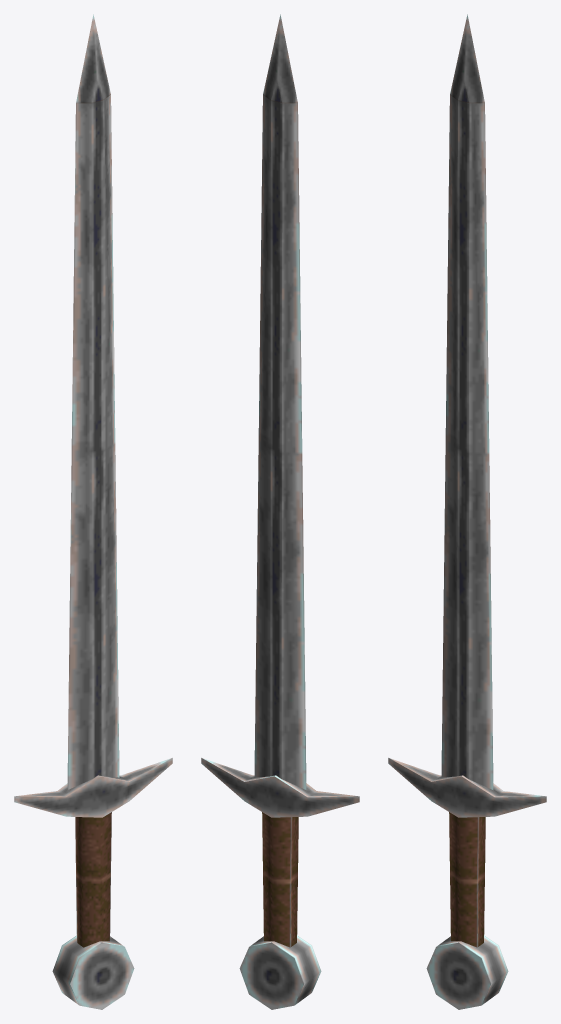
File: q_sword.obj
3 renders of one model, left to right at view 1: azimuth 30°, elevation 25°; view 2: azimuth 150°, elevation 25°; view 3: azimuth 330°, elevation 25°, orthographic.
Visible parts, largest first — view 1: sword.001_Cylinder.000; view 2: sword.001_Cylinder.000; view 3: sword.001_Cylinder.000.
Boxes of the visible parts, x1,y1,x2,y2 form: sword.001_Cylinder.000: [14, 14, 172, 1009]; sword.001_Cylinder.000: [201, 14, 359, 1009]; sword.001_Cylinder.000: [388, 14, 546, 1009].
Bounding box in the file's own units: 0.1428 × 0.8544 × 0.028.
1 material, 1 textured.
